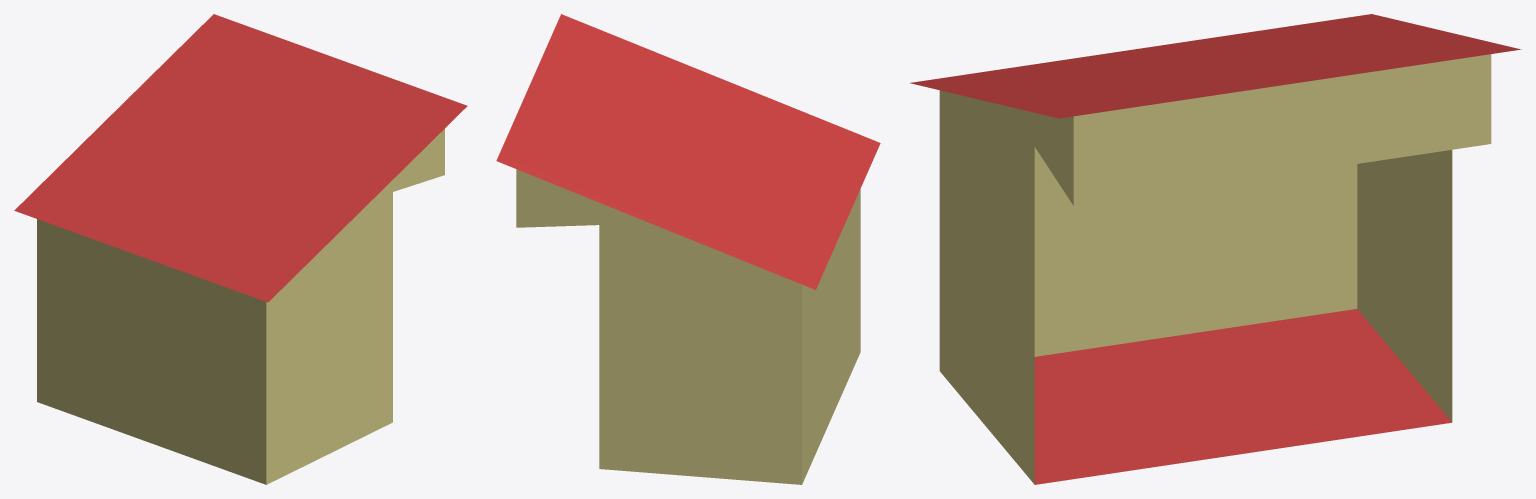
The picture shows the model from 3 angles, left to right: view 1: azimuth 30°, elevation 25°; view 2: azimuth 150°, elevation 25°; view 3: azimuth 270°, elevation 25°; orthographic projection. The views are drawn at different scales.
Size of the model in its own units: 12.29 by 12.8 by 9.82.
